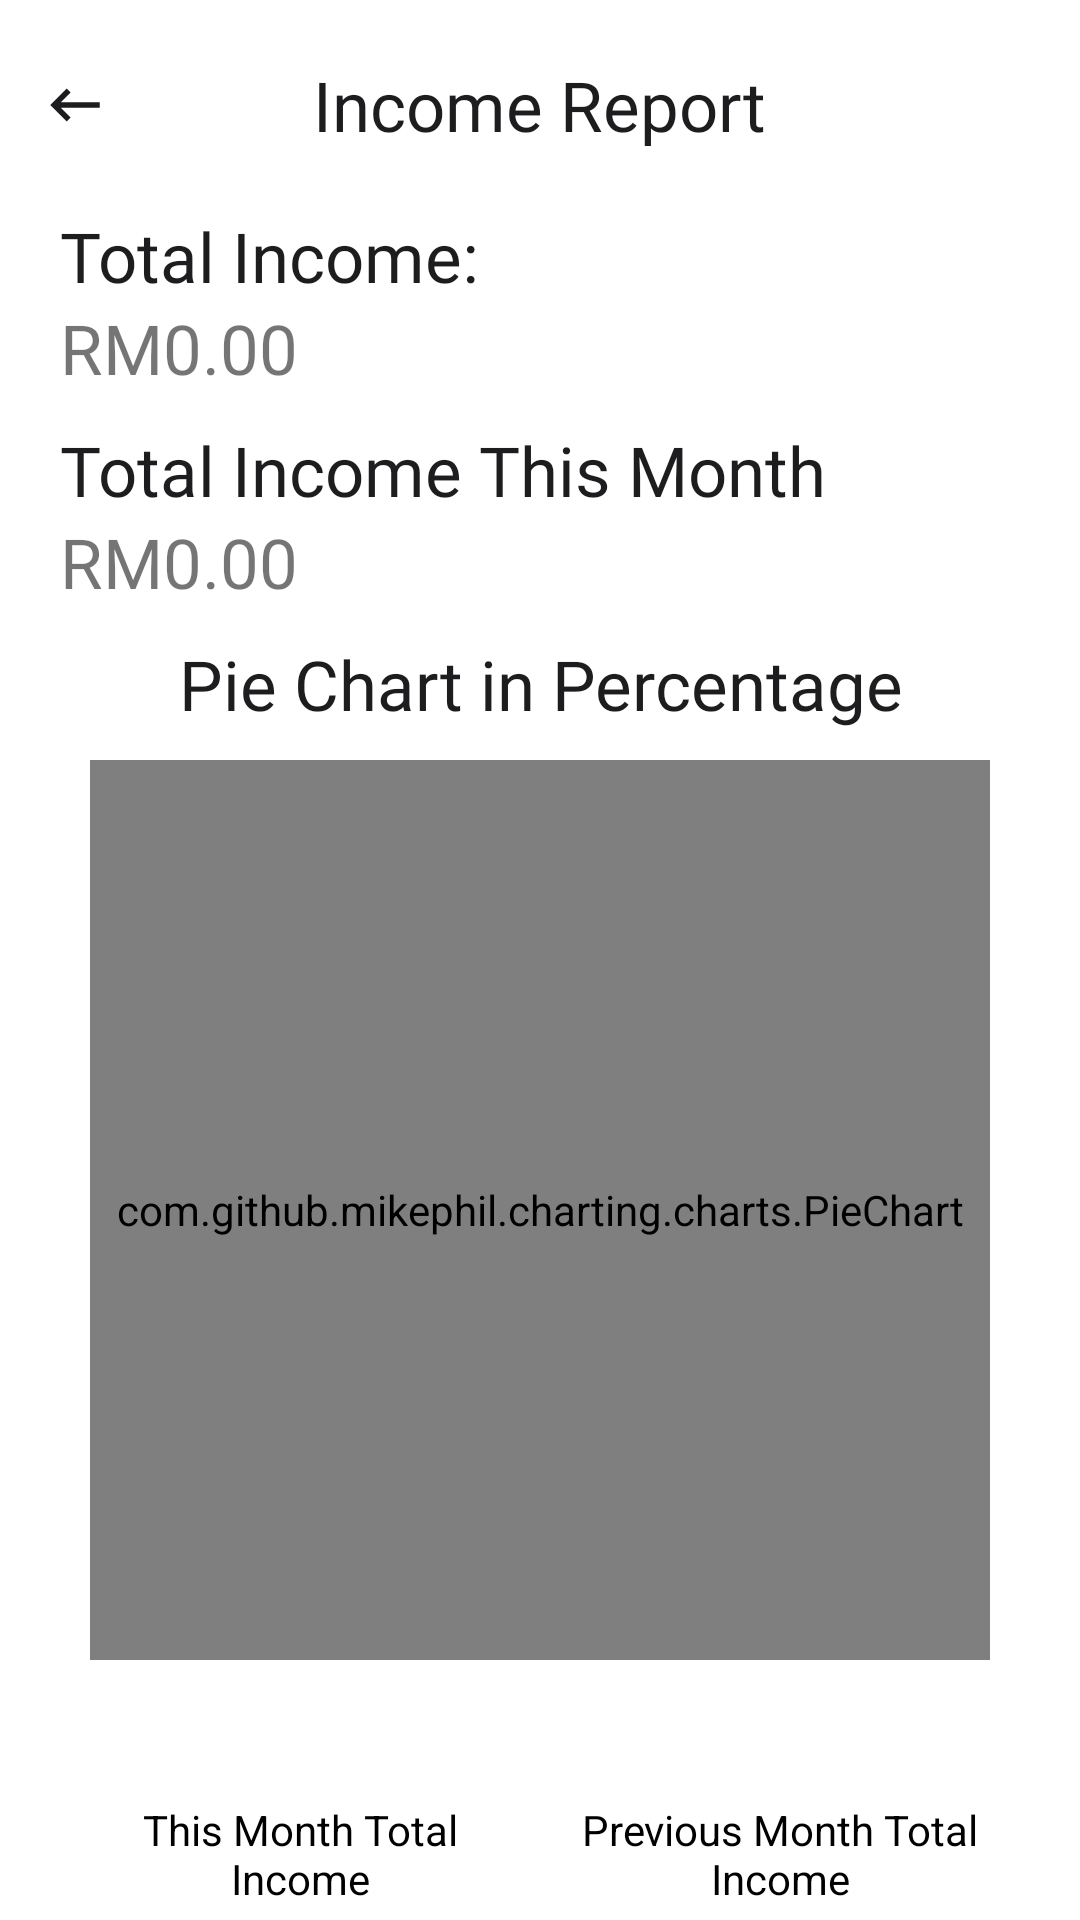

Locate icon controls on the screen. Image size 1080w x 1920h, boxes as bbox=(x1, y1, x2, y2).
keyboard backspace: bbox=(50, 88, 100, 122)
